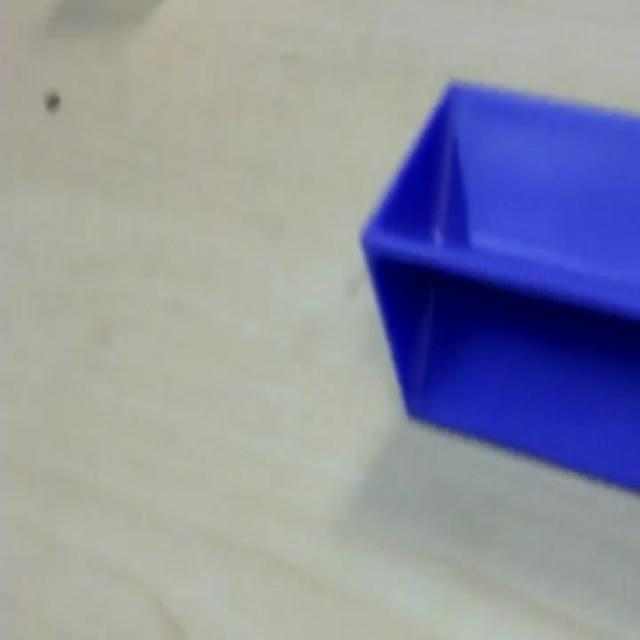blue_block: (358, 76, 638, 492)
